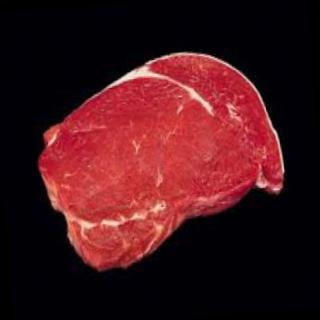Daging Sapi: (29, 45, 293, 276)
